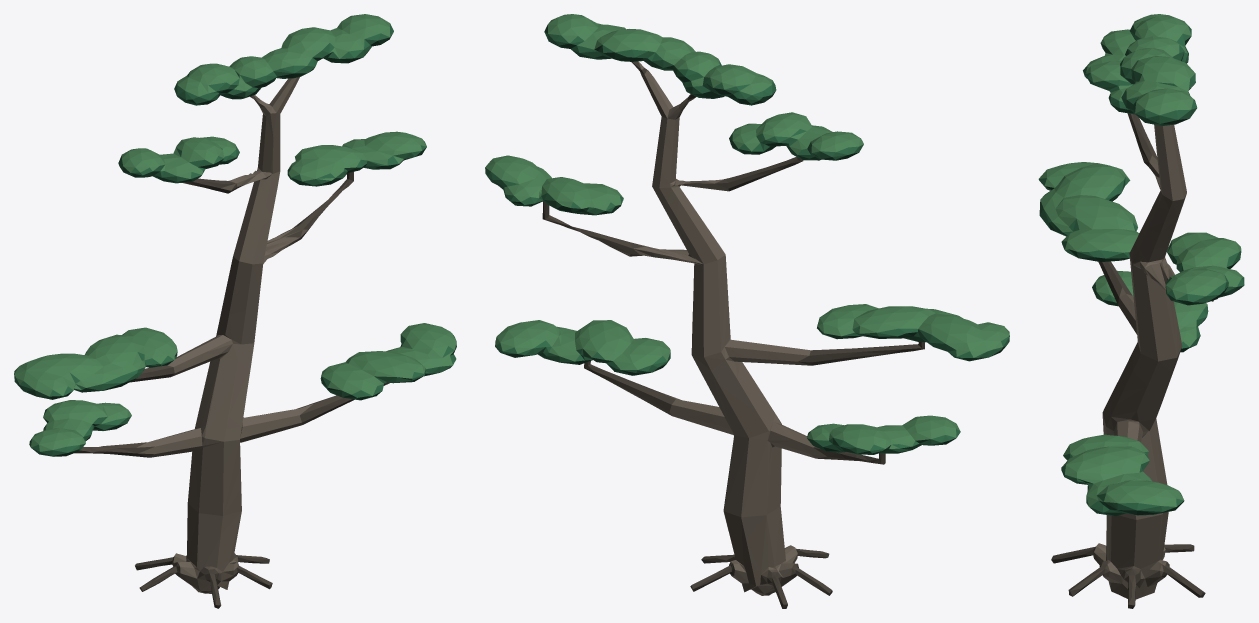
The model's file is ancient-pine-1401-lod0.glb.
The picture shows the model from 3 angles, left to right: view 1: azimuth 30°, elevation 25°; view 2: azimuth 150°, elevation 25°; view 3: azimuth 270°, elevation 25°; orthographic projection. The views are drawn at different scales.
Parts seen in each view (by area): view 1: n12.004, n8.004, n11.004, n9.004, n10.004; view 2: n8.004, n12.004, n11.004, n9.004, n10.004; view 3: n12.004, n8.004, n11.004, n9.004, n10.004.
Part boxes in pixels (box(x1,y1,x2,y2)): n12.004: box(14, 14, 456, 451); n8.004: box(137, 77, 314, 593); n11.004: box(14, 24, 456, 455); n9.004: box(74, 78, 389, 608); n10.004: box(18, 34, 456, 456); n8.004: box(613, 61, 826, 595); n12.004: box(485, 14, 1009, 450); n11.004: box(485, 24, 1009, 453); n9.004: box(542, 61, 924, 608); n10.004: box(488, 41, 1005, 454); n12.004: box(1039, 14, 1243, 506); n8.004: box(1094, 124, 1186, 599); n11.004: box(1038, 24, 1244, 512); n9.004: box(1051, 113, 1213, 608); n10.004: box(1041, 36, 1243, 516).
Bounding box in the file's own units: 4.98 × 5.41 × 1.7.
